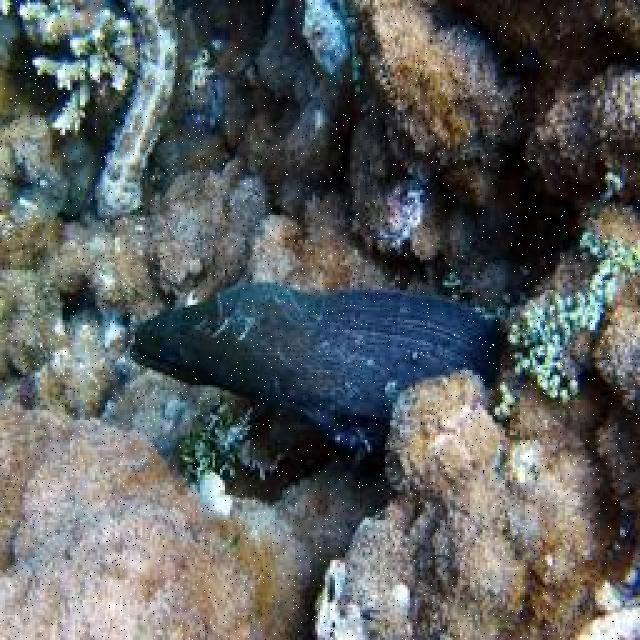reefs: (130, 285, 502, 460)
